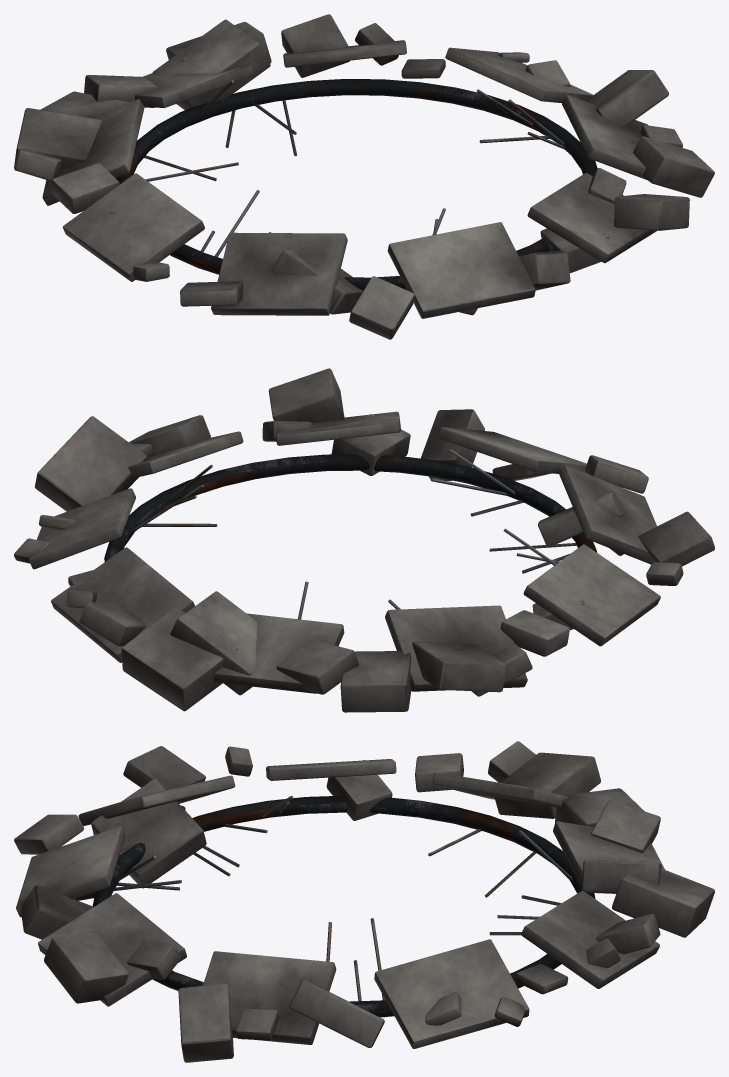
Rendered from surge.gltf.
The picture shows the model from 3 angles, top to bottom: view 1: azimuth 30°, elevation 25°; view 2: azimuth 150°, elevation 25°; view 3: azimuth 270°, elevation 25°; orthographic projection. The views are drawn at different scales.
Visible parts, largest first — view 1: surge; view 2: surge; view 3: surge.
Part boxes in pixels (<box>): surge: <box>14,14,714,339</box>; surge: <box>14,368,714,712</box>; surge: <box>14,741,714,1062</box>.
Bounding box in the file's own units: 4.83 × 0.7484 × 4.95.
3 materials, 3 textured.
